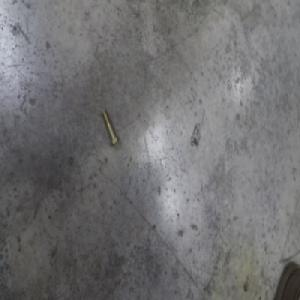Bolt: (101, 105, 120, 146)
